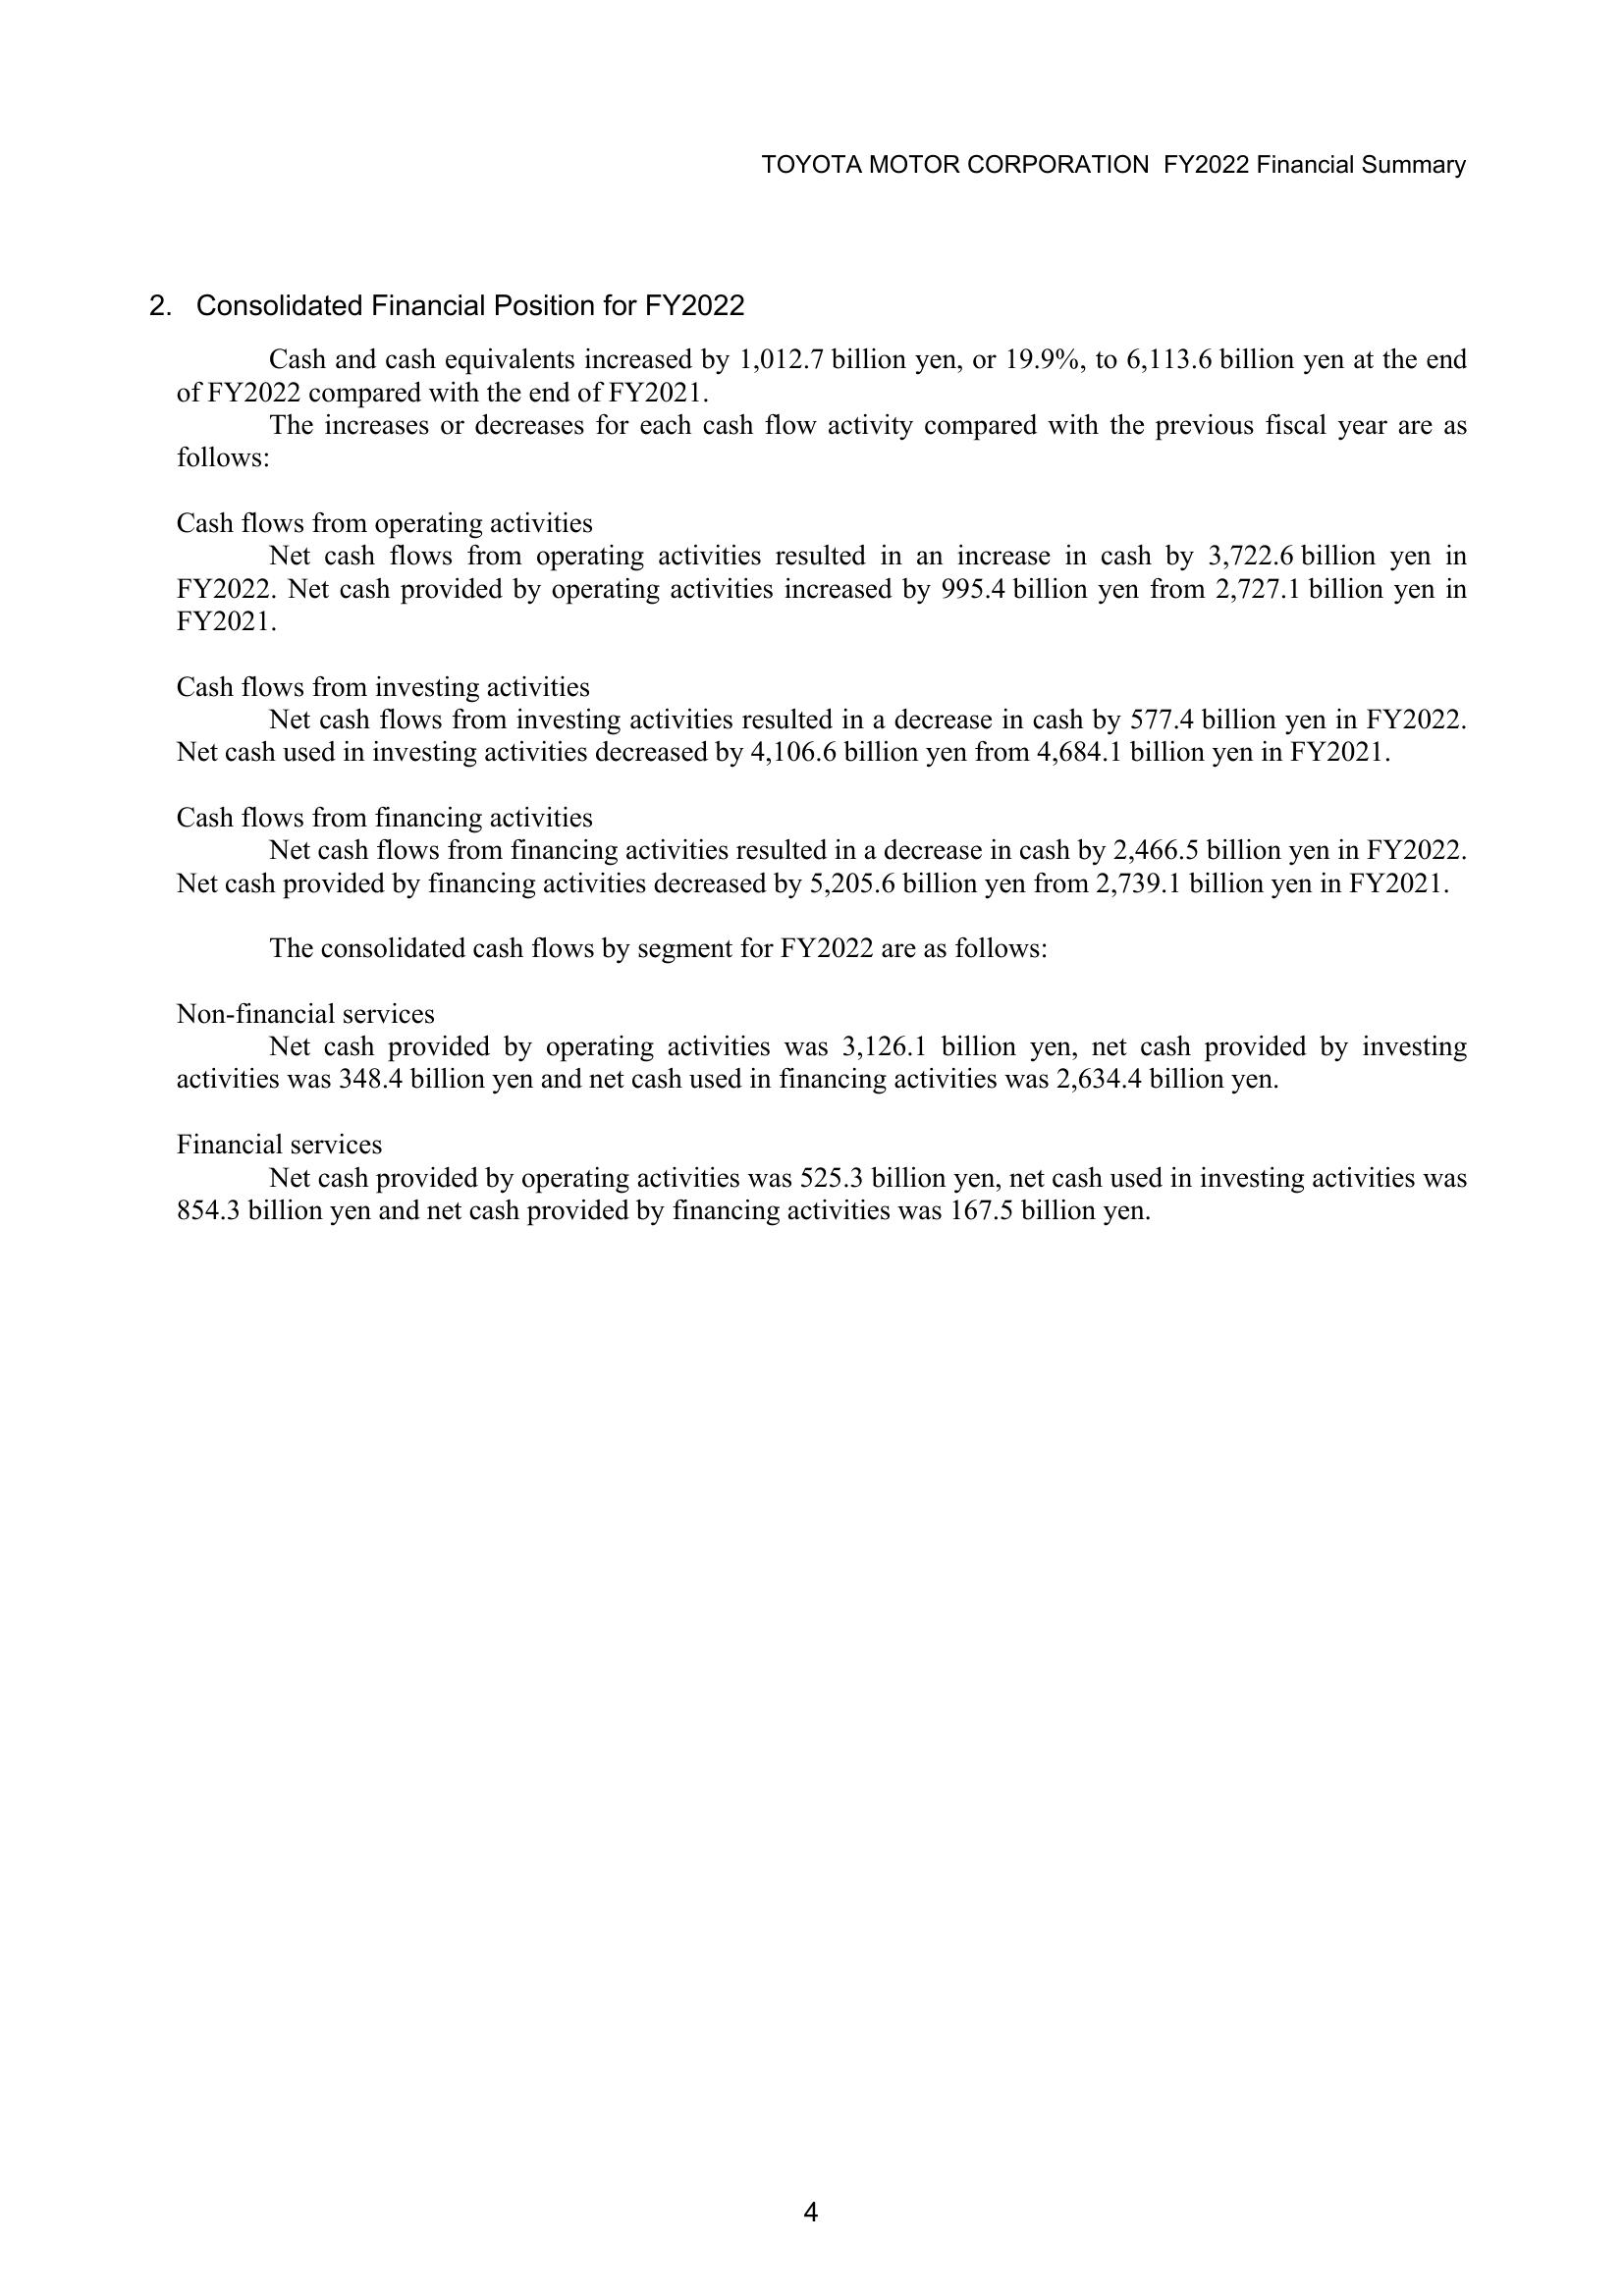Footer: (0, 2161, 1624, 2296)
Header: (0, 0, 1624, 202)
